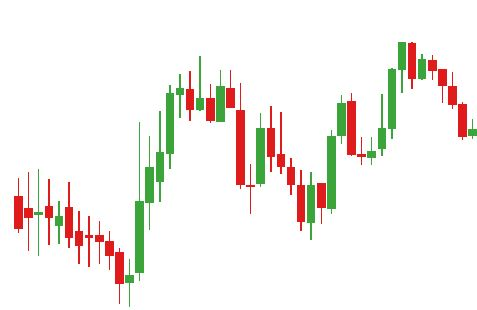buy: (247, 123, 316, 242)
